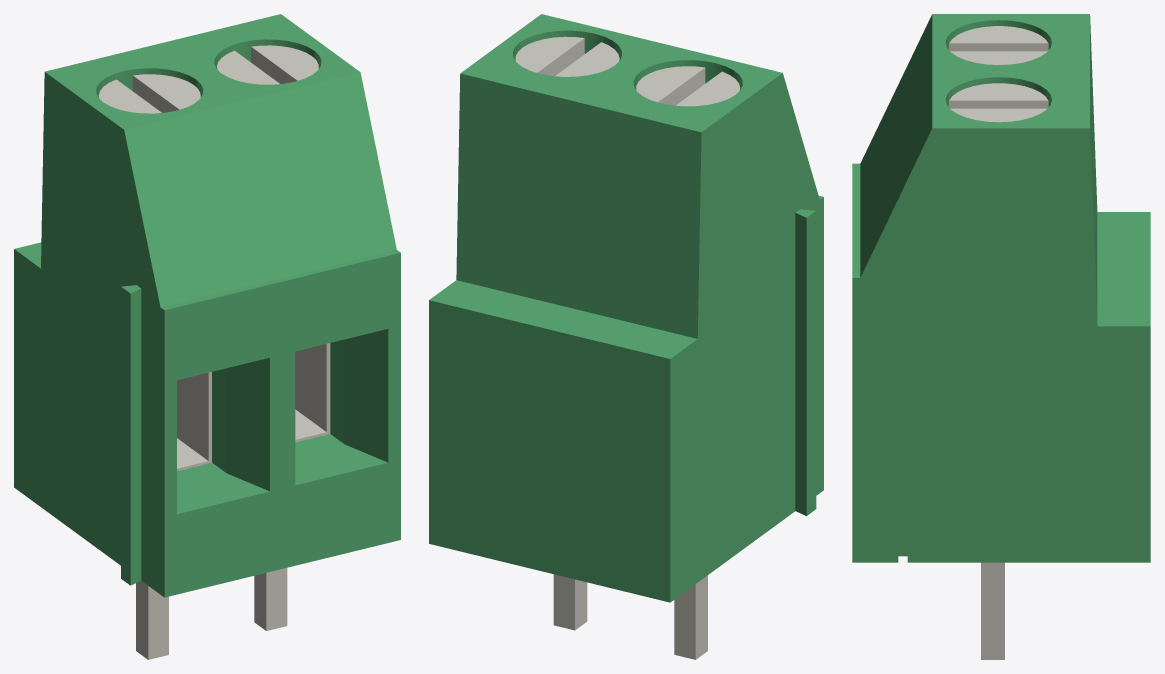
The model's file is kc-terminalblock_phoenix_mkds-3-2-5.08_1x02_p5.08mm_horizontal.glb.
3 renders of one model, left to right at view 1: azimuth 30°, elevation 25°; view 2: azimuth 150°, elevation 25°; view 3: azimuth 270°, elevation 25°, orthographic. The views are drawn at different scales.
Parts seen in each view (by area): view 1: 0.08333333333333333_0.4166666666666667_0.16666666666666666_0, 0.6666666666666666_0.6666666666666666_0.5833333333333334_0.8; view 2: 0.08333333333333333_0.4166666666666667_0.16666666666666666_0, 0.6666666666666666_0.6666666666666666_0.5833333333333334_0.8; view 3: 0.08333333333333333_0.4166666666666667_0.16666666666666666_0, 0.6666666666666666_0.6666666666666666_0.5833333333333334_0.8.
Boxes of the visible parts, x1=… form: 0.08333333333333333_0.4166666666666667_0.16666666666666666_0: x1=14, y1=14, x2=400, y2=597; 0.6666666666666666_0.6666666666666666_0.5833333333333334_0.8: x1=98, y1=45, x2=330, y2=659; 0.08333333333333333_0.4166666666666667_0.16666666666666666_0: x1=429, y1=14, x2=823, y2=602; 0.6666666666666666_0.6666666666666666_0.5833333333333334_0.8: x1=515, y1=36, x2=740, y2=659; 0.08333333333333333_0.4166666666666667_0.16666666666666666_0: x1=852, y1=14, x2=1150, y2=562; 0.6666666666666666_0.6666666666666666_0.5833333333333334_0.8: x1=949, y1=26, x2=1048, y2=659.
Size of the model in its own units: 1.07 by 2.3 by 1.12.
